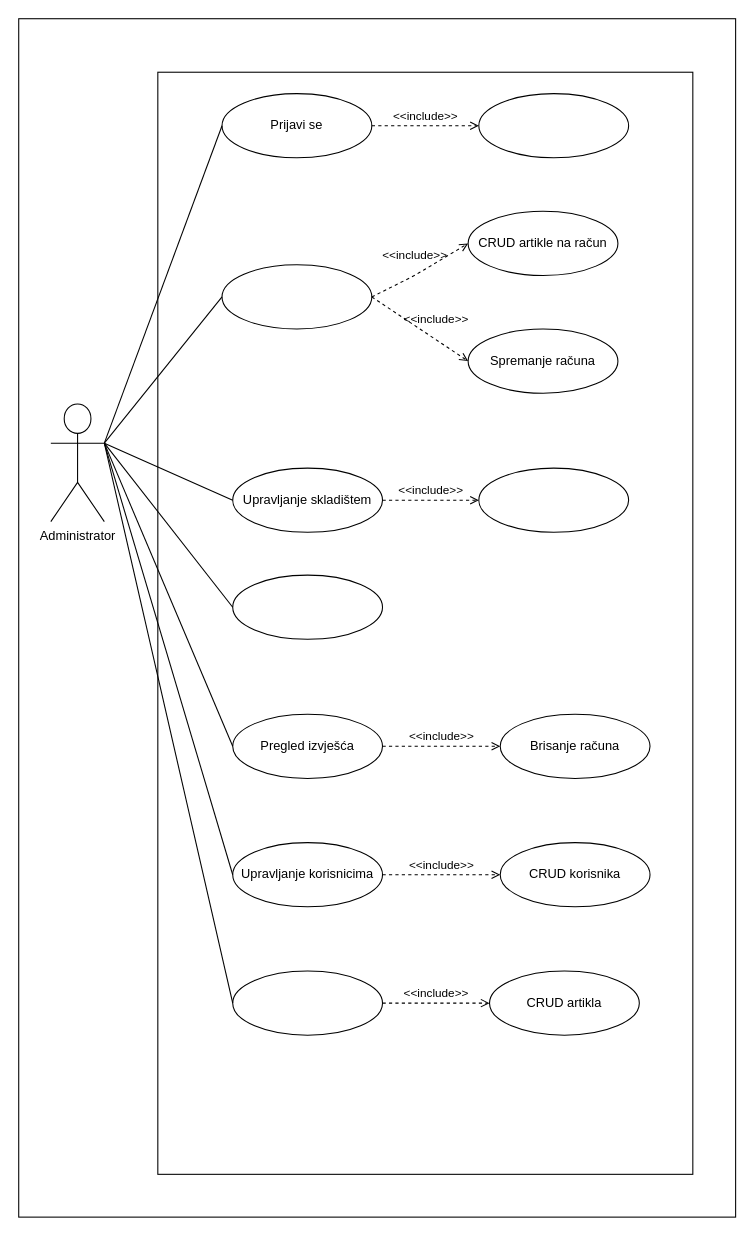
The diagram is 754 pixels wide and 1236 high, and some of its shapes have lost their labels. The shapes that lost their labels are listed below. From the top down, each one's centre as x and y in pixels, then its label:
the point at 553,125: Autentifikacija
the point at 296,296: Izradi račun
the point at 553,499: Dodavanje količine
the point at 307,606: Pregled blagajne
the point at 307,1002: Upravljanje artiklima
